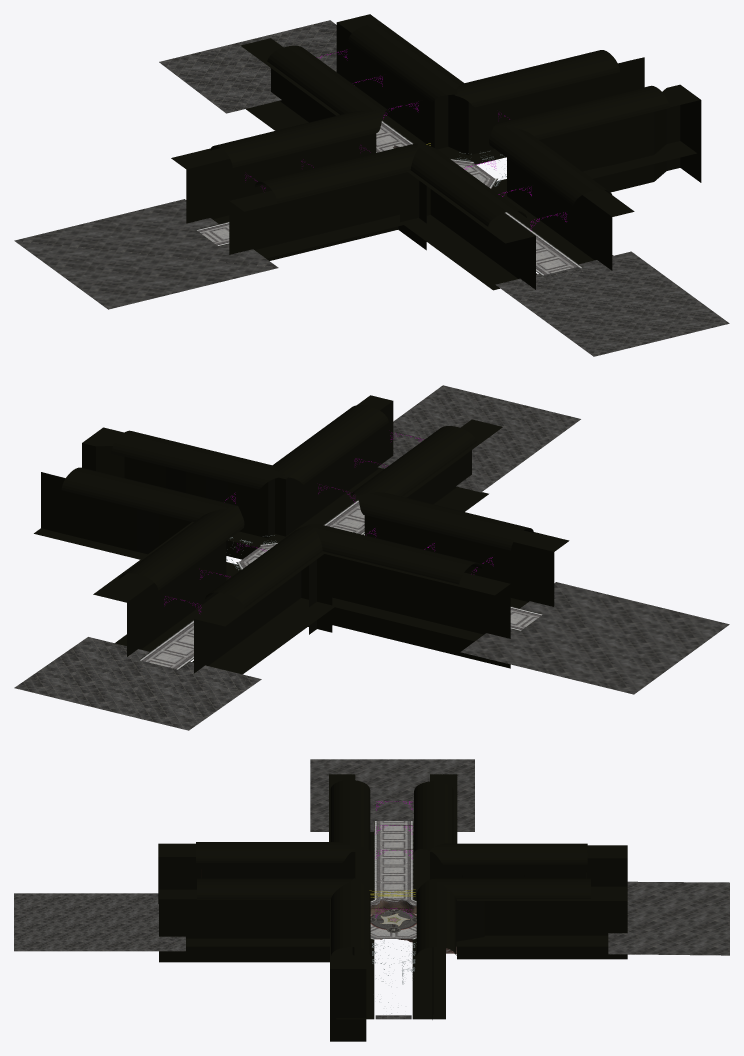
3 views of the same model, one above another, from view 1: azimuth 30°, elevation 25°; view 2: azimuth 150°, elevation 25°; view 3: azimuth 270°, elevation 25° (orthographic). The views are drawn at different scales.
Parts seen in each view (by area): view 1: LOD_1_Group_0_Sub_6__cautiontape1, LOD_1_Group_0_Sub_8__l02_1_gatetile1, LOD_1_Group_0_Sub_7__arcadetile05; view 2: LOD_1_Group_0_Sub_6__cautiontape1, LOD_1_Group_0_Sub_8__l02_1_gatetile1, LOD_1_Group_0_Sub_7__arcadetile05; view 3: LOD_1_Group_0_Sub_6__cautiontape1, LOD_1_Group_0_Sub_8__l02_1_gatetile1, LOD_1_Group_0_Sub_7__arcadetile05, LOD_1_Group_0_Sub_1__groundcrack01, LOD_1_Group_0_Sub_4__centercircle2.
Boxes of the visible parts, bbox=[...] form: LOD_1_Group_0_Sub_6__cautiontape1: bbox=[171, 14, 701, 290]; LOD_1_Group_0_Sub_8__l02_1_gatetile1: bbox=[14, 20, 729, 356]; LOD_1_Group_0_Sub_7__arcadetile05: bbox=[196, 120, 582, 275]; LOD_1_Group_0_Sub_6__cautiontape1: bbox=[34, 395, 569, 674]; LOD_1_Group_0_Sub_8__l02_1_gatetile1: bbox=[14, 385, 729, 730]; LOD_1_Group_0_Sub_7__arcadetile05: bbox=[139, 500, 542, 669]; LOD_1_Group_0_Sub_6__cautiontape1: bbox=[158, 774, 627, 1041]; LOD_1_Group_0_Sub_8__l02_1_gatetile1: bbox=[14, 759, 729, 1019]; LOD_1_Group_0_Sub_7__arcadetile05: bbox=[370, 821, 446, 950]; LOD_1_Group_0_Sub_1__groundcrack01: bbox=[370, 898, 456, 953]; LOD_1_Group_0_Sub_4__centercircle2: bbox=[370, 910, 416, 929].
Size of the model in its own units: 13199 by 2097 by 15320.
